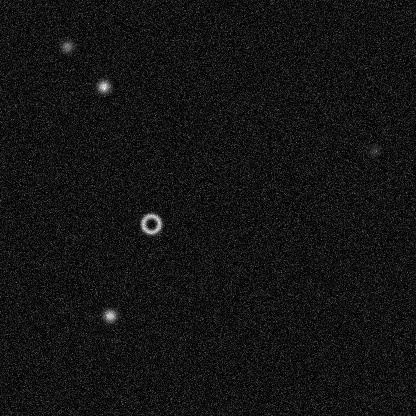Ring: (139, 211, 163, 235)
Spot: (58, 38, 74, 54), (365, 142, 381, 158), (95, 78, 111, 94), (101, 307, 117, 323)
